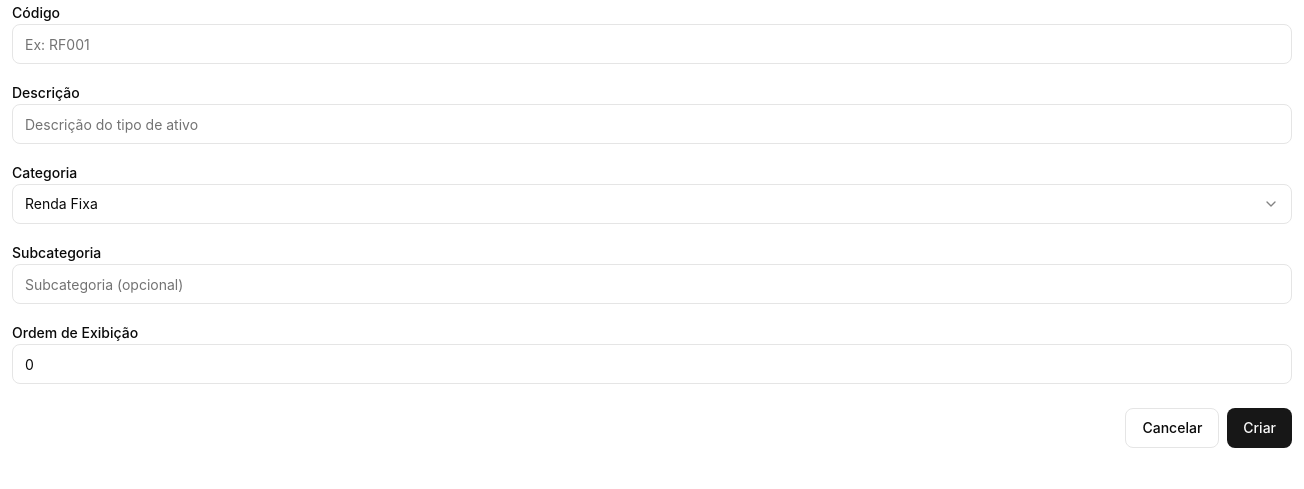
TipoAtivoForm — create mode › shows validation error when submitted with empty Descrição
Type "RF001" into the field with placeholder "Ex: RF001" at (652, 44), box x1=12 y1=24 x2=1292 y2=64
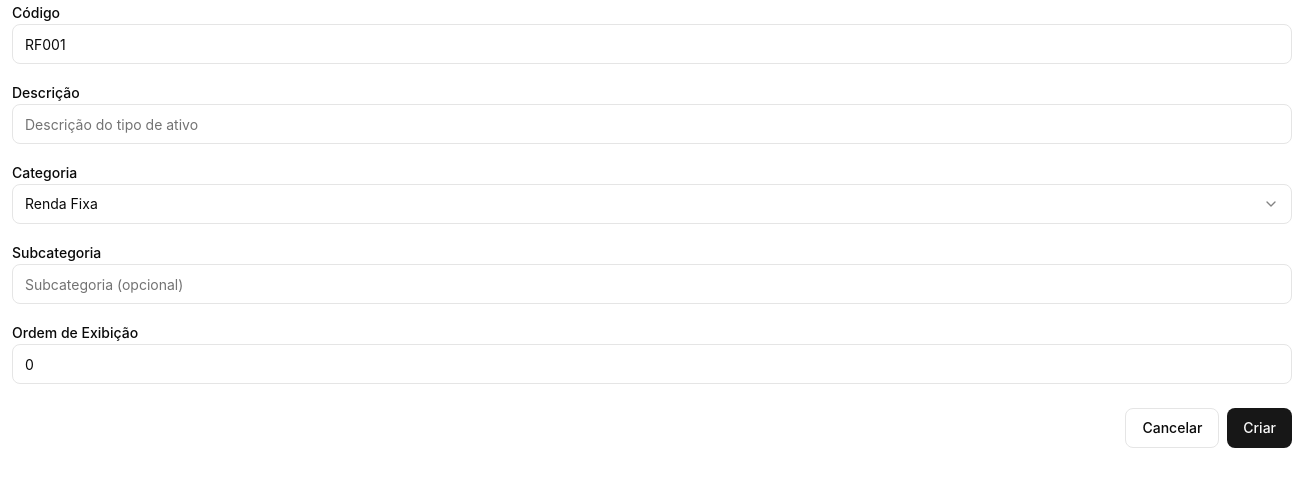
Click the button "Criar" at (1260, 428), box x1=1227 y1=408 x2=1292 y2=448
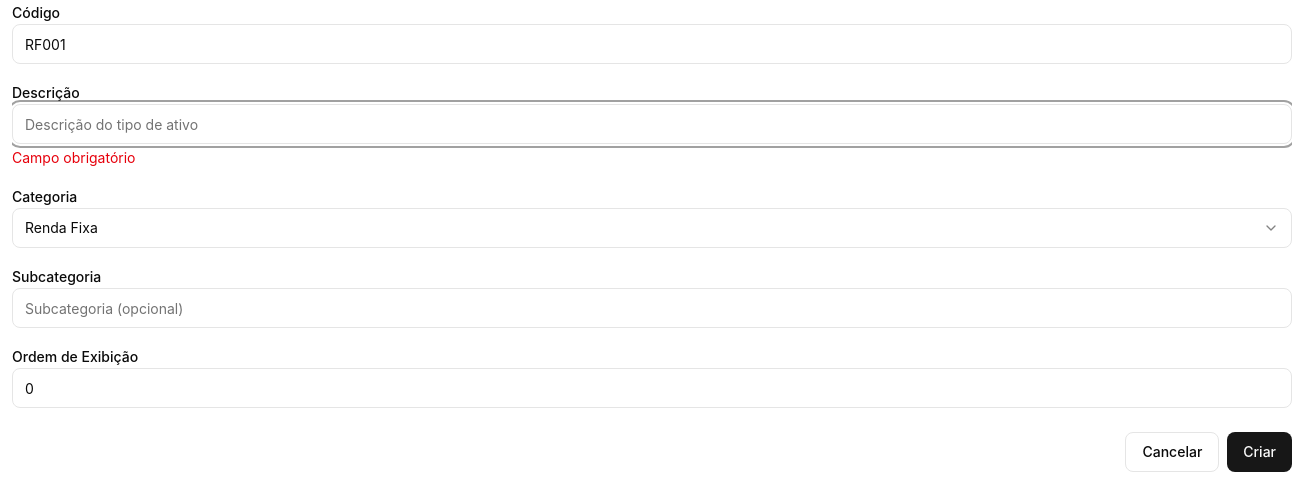
Expected: the message "Campo obrigatório" is shown, x1=12 y1=149 x2=136 y2=166
